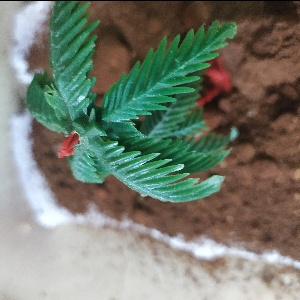plant: (26, 1, 233, 205)
